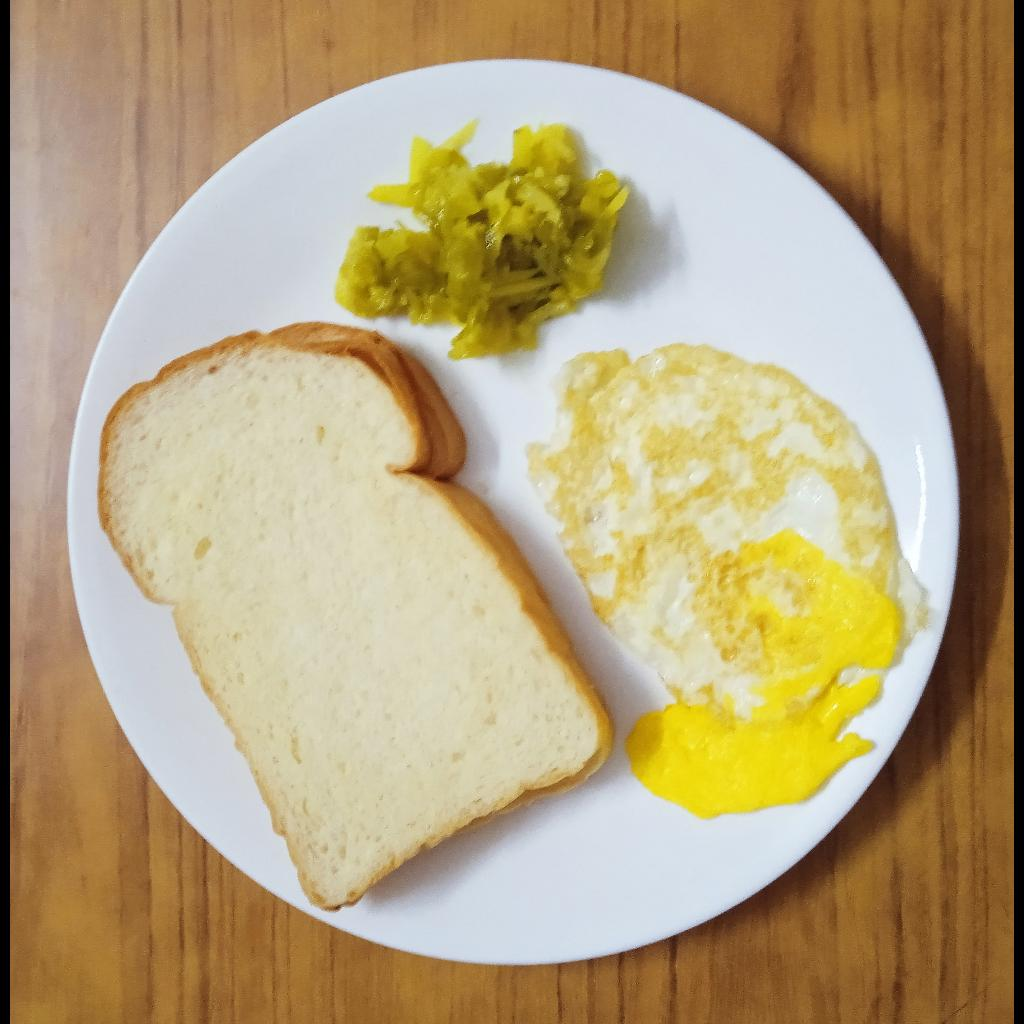bread: (94, 323, 610, 909)
egg-poached: (525, 343, 932, 822)
vegetable: (335, 118, 628, 357)
